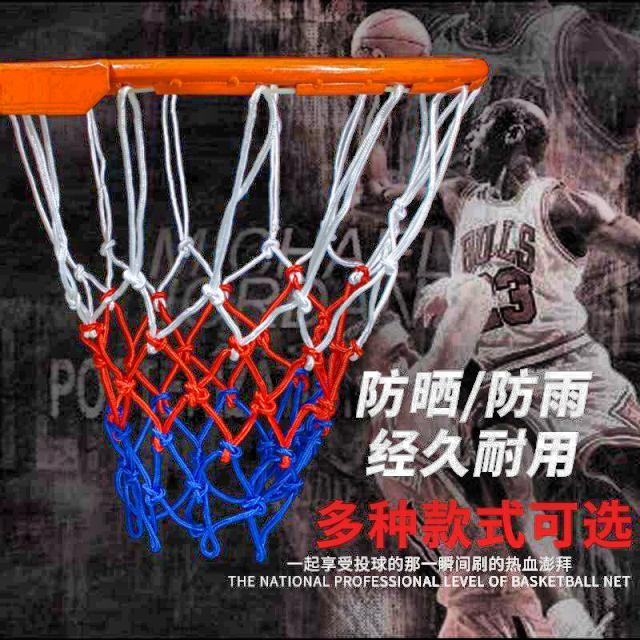rim: (0, 54, 489, 564)
